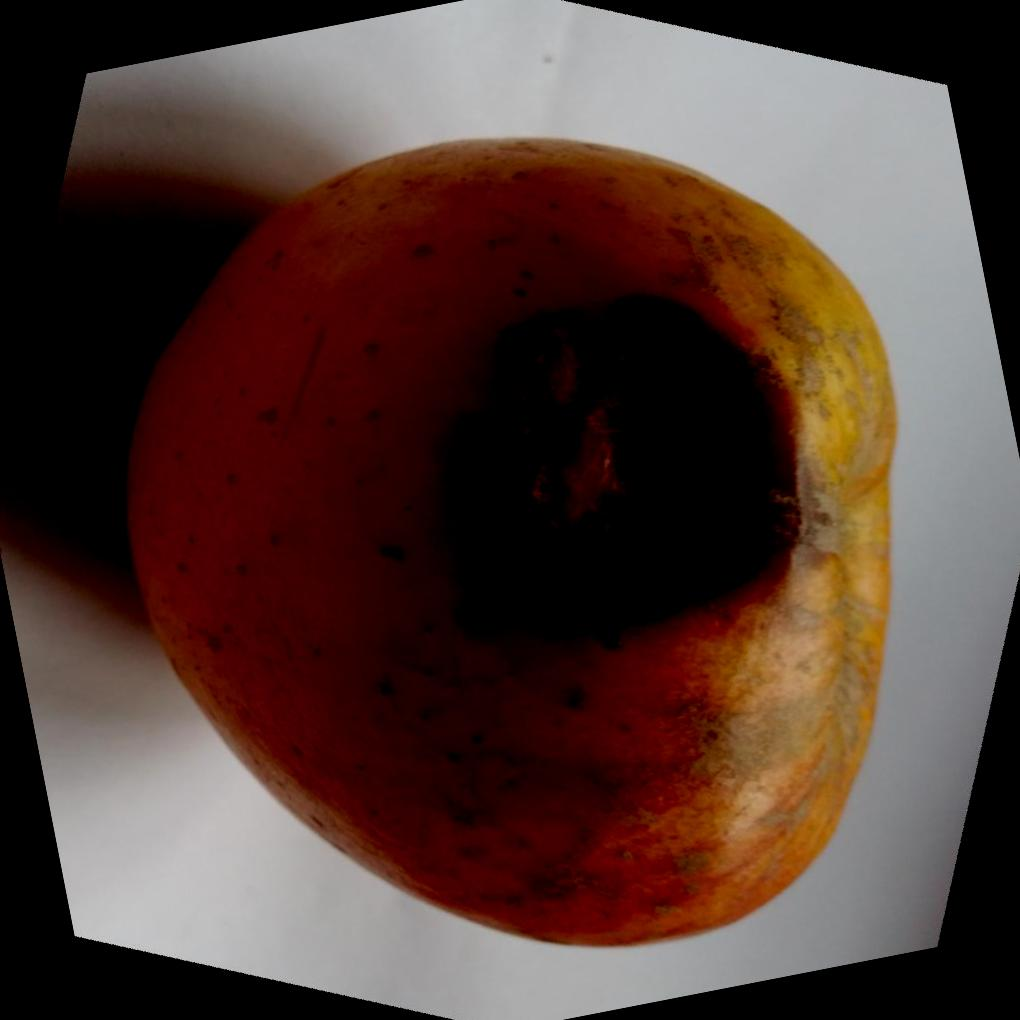FreshOrange: (117, 136, 897, 951)
